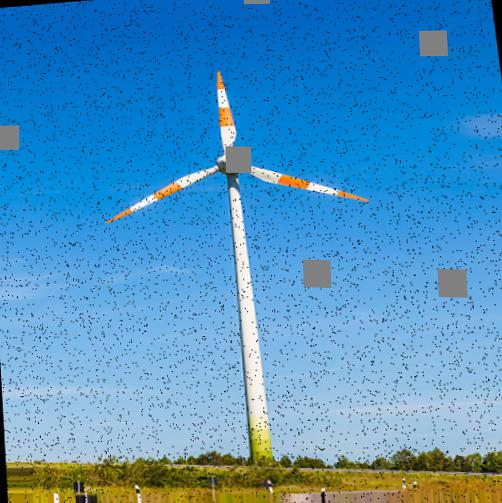wind turbine: (102, 69, 369, 469)
